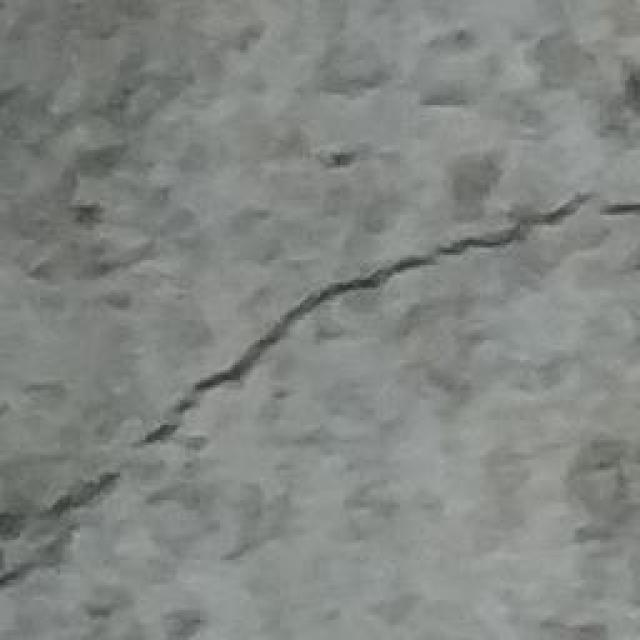Radial: (0, 185, 640, 580)
